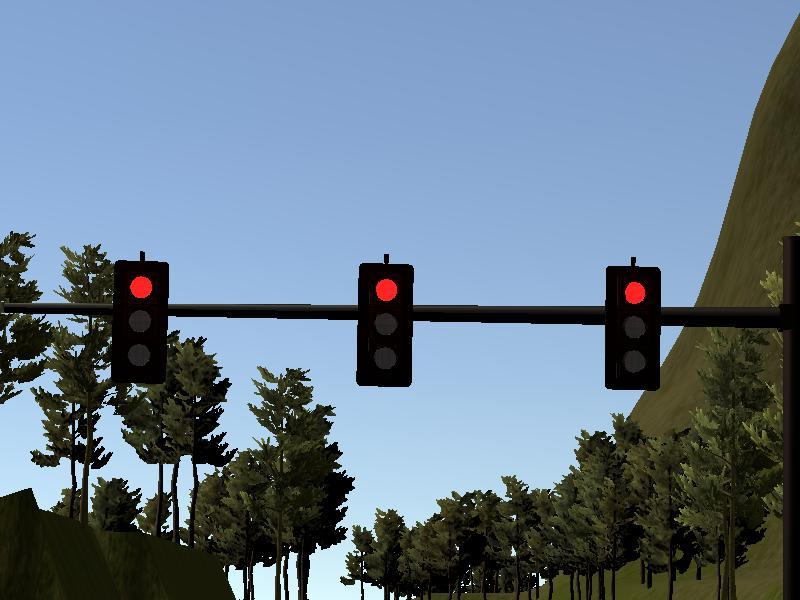Red: (358, 262, 411, 385), (607, 267, 659, 388), (112, 261, 164, 380)
